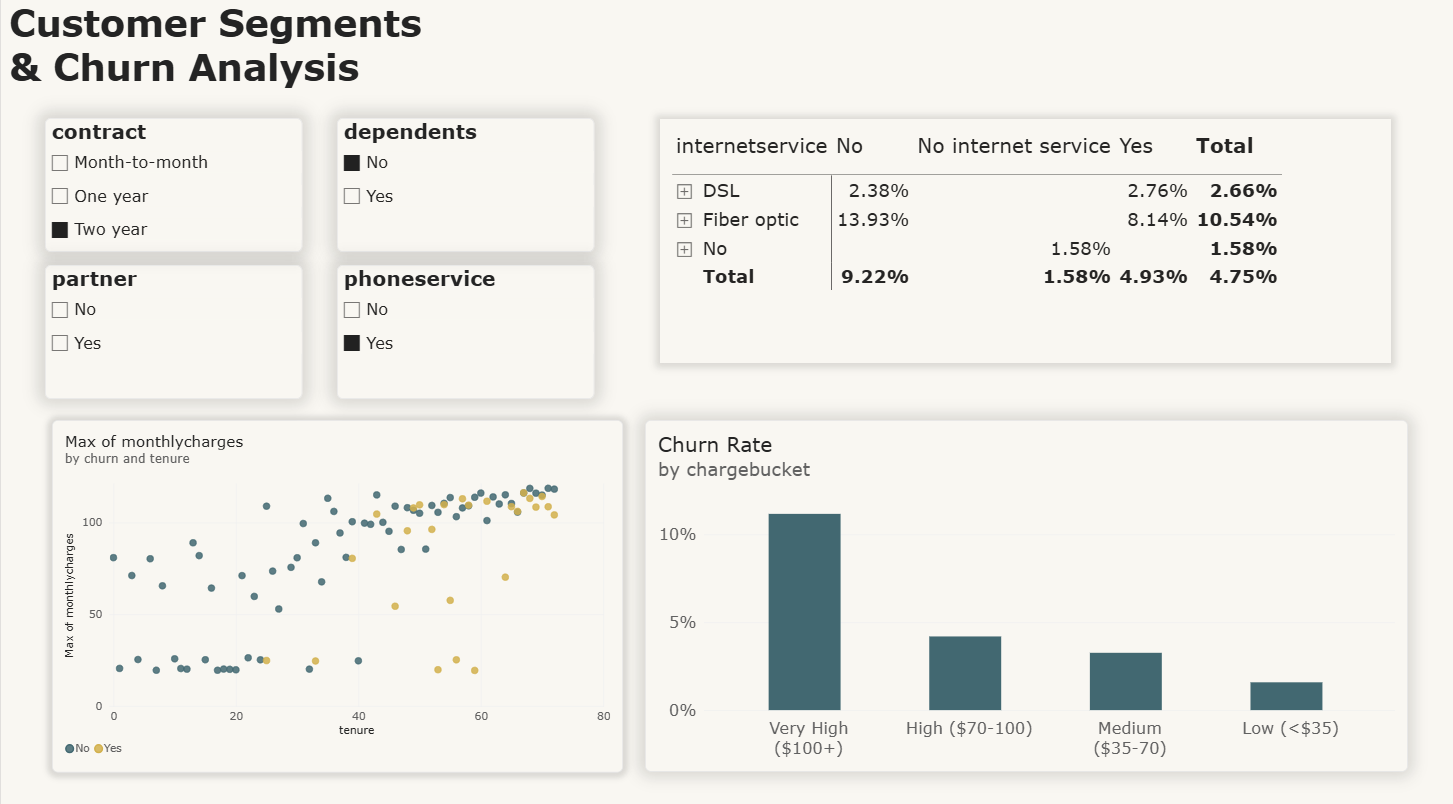

Layout of this report page (visuals, bound fields, positions):
{"tool":"powerbi","page":{"name":"Page 2","canvas":[1920,1080],"ordinal":1},"visuals":[{"type":"textbox","box":[10,0,570,185],"z":0},{"type":"pivotTable","fields":{"Columns":["public customers_full.onlinesecurity"],"Rows":["public customers_full.internetservice","public customers_full.techsupport"],"Values":["public customers_full.Churn Rate"]},"box":[866,156,960,320],"z":1000},{"type":"clusteredColumnChart","fields":{"Category":["public customers_full.chargebucket"],"Y":["public customers_full.Churn Rate"]},"box":[846,552,1002,462],"z":2000},{"type":"scatterChart","fields":{"Series":["public customers_full.churn"],"X":["public customers_full.tenure"],"Y":["Max(public customers_full.monthlycharges)"]},"box":[66.7,551.7,750,462.5],"z":3000},{"type":"slicer","fields":{"Values":["public customers_full.contract"]},"box":[57.5,155,338,176],"z":3001},{"type":"slicer","fields":{"Values":["public customers_full.partner"]},"box":[57.5,347.5,338,176],"z":3004},{"type":"slicer","fields":{"Values":["public customers_full.dependents"]},"box":[441.2,155,338,176],"z":3005},{"type":"slicer","fields":{"Values":["public customers_full.phoneservice"]},"box":[441.2,347.5,338,176],"z":3006}]}

Visuals, with their boxes in screenshot pixels (x1, y1, x2, y2), scaled from the page's 1920x1080 canvas onto the 1453x804 screenshot:
textbox: rect(8, 0, 439, 138)
pivotTable - public customers_full.onlinesecurity x public customers_full.internetservice: rect(655, 116, 1382, 354)
clusteredColumnChart - public customers_full.chargebucket x public customers_full.Churn Rate: rect(640, 411, 1399, 755)
scatterChart - public customers_full.churn x public customers_full.tenure: rect(50, 411, 618, 755)
slicer - public customers_full.contract: rect(44, 115, 299, 246)
slicer - public customers_full.partner: rect(44, 259, 299, 390)
slicer - public customers_full.dependents: rect(334, 115, 590, 246)
slicer - public customers_full.phoneservice: rect(334, 259, 590, 390)
